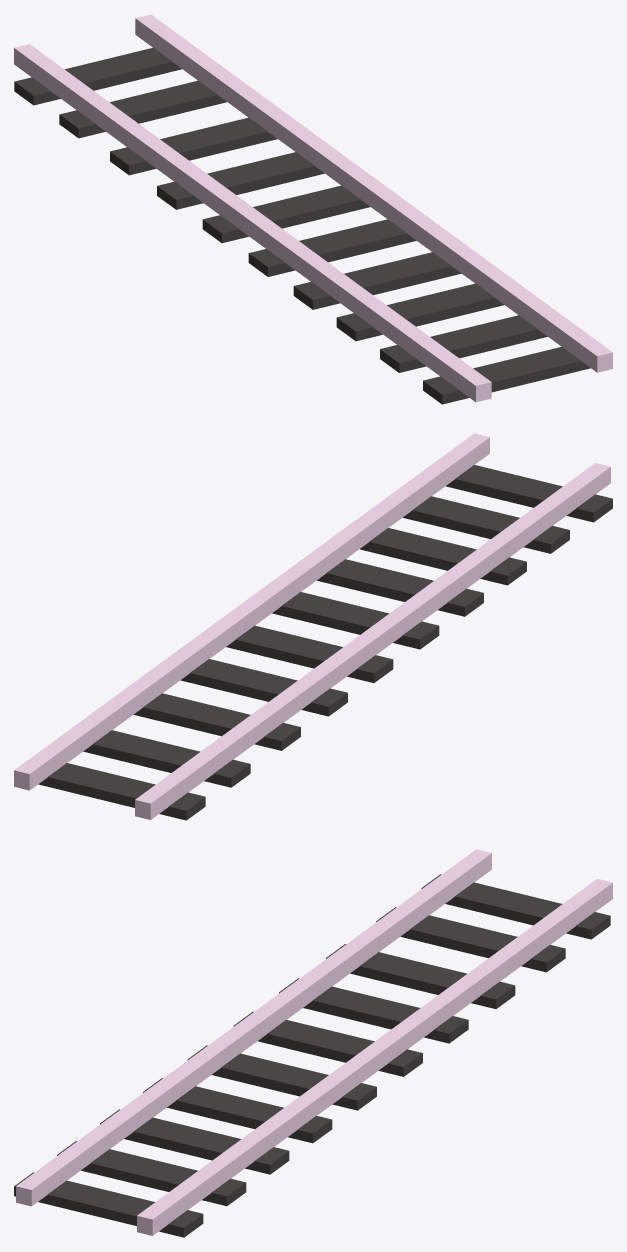
Rendered from railsIndoor1.fbx.
3 renders of one model, top to bottom at view 1: azimuth 30°, elevation 25°; view 2: azimuth 150°, elevation 25°; view 3: azimuth 330°, elevation 25°, orthographic.
Visible parts, largest first — view 1: Cube.001, Cube, Cube.004, Cube.006, Cube.005, Cube.010, Cube.003, Cube.007, Cube.011, Cube.002, Cube.009, Cube.008; view 2: Cube.001, Cube, Cube.011, Cube.006, Cube.010, Cube.007, Cube.008, Cube.009, Cube.003, Cube.002, Cube.004, Cube.005; view 3: Cube, Cube.001, Cube.004, Cube.002, Cube.008, Cube.007, Cube.009, Cube.010, Cube.011, Cube.003, Cube.005, Cube.006.
Boxes of the visible parts, x1,y1,x2,y2 form: Cube.001: [135, 14, 612, 372]; Cube: [14, 44, 491, 402]; Cube.004: [423, 346, 590, 404]; Cube.006: [248, 219, 416, 276]; Cube.005: [293, 252, 461, 309]; Cube.010: [59, 80, 226, 138]; Cube.003: [336, 283, 503, 341]; Cube.007: [202, 185, 369, 243]; Cube.011: [14, 47, 181, 105]; Cube.002: [380, 315, 547, 372]; Cube.009: [110, 117, 277, 175]; Cube.008: [157, 152, 324, 209]; Cube.001: [14, 433, 489, 790]; Cube: [135, 463, 610, 819]; Cube.011: [38, 763, 205, 820]; Cube.006: [272, 592, 439, 649]; Cube.010: [83, 730, 250, 787]; Cube.007: [226, 625, 393, 682]; Cube.008: [180, 659, 347, 716]; Cube.009: [133, 693, 300, 750]; Cube.003: [360, 528, 526, 585]; Cube.002: [403, 496, 569, 553]; Cube.004: [446, 465, 612, 522]; Cube.005: [317, 559, 483, 616]; Cube: [16, 849, 491, 1206]; Cube.001: [137, 879, 612, 1235]; Cube.004: [14, 1172, 203, 1237]; Cube.002: [57, 1141, 246, 1206]; Cube.008: [279, 978, 468, 1043]; Cube.007: [233, 1011, 422, 1076]; Cube.009: [326, 944, 515, 1008]; Cube.010: [376, 907, 565, 972]; Cube.011: [421, 874, 610, 939]; Cube.003: [100, 1109, 289, 1174]; Cube.005: [143, 1078, 332, 1143]; Cube.006: [187, 1045, 376, 1110].
Size of the model in its own units: 1022 by 148 by 4789.
